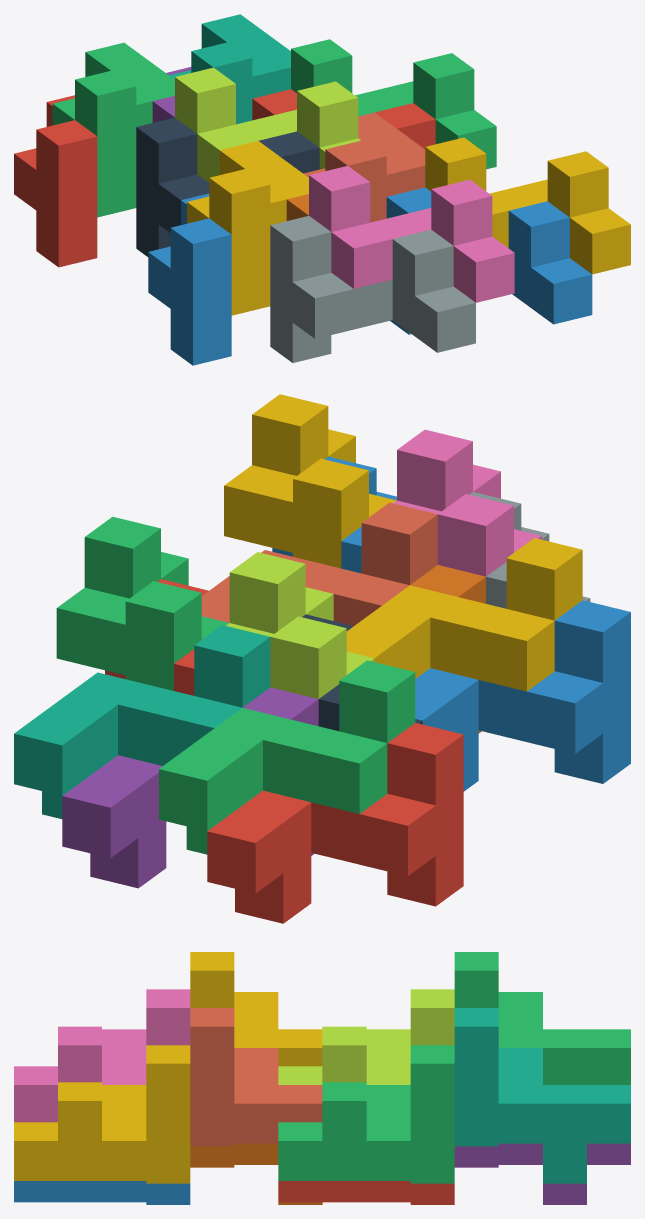
Rendered from tiling.obj.
3 views of the same model, one above another, from view 1: azimuth 30°, elevation 25°; view 2: azimuth 150°, elevation 25°; view 3: azimuth 270°, elevation 25° (orthographic). The views are drawn at different scales.
Visible parts, largest first — view 1: copy_2_domain_2, copy_2_domain_4, copy_2_domain_8, copy_1_domain_3, copy_1_domain_4, copy_1_domain_1, copy_2_domain_3, copy_1_domain_2, copy_2_domain_7, copy_2_domain_6, copy_2_domain_1, copy_1_domain_7 (+4 smaller); view 2: copy_1_domain_1, copy_1_domain_3, copy_1_domain_2, copy_1_domain_7, copy_1_domain_4, copy_2_domain_7, copy_2_domain_8, copy_1_domain_5, copy_2_domain_3, copy_2_domain_4, copy_1_domain_8, copy_1_domain_6 (+4 smaller); view 3: copy_2_domain_7, copy_2_domain_8, copy_1_domain_7, copy_1_domain_8, copy_2_domain_4, copy_1_domain_3, copy_2_domain_3, copy_1_domain_4, copy_1_domain_5, copy_2_domain_5, copy_2_domain_6, copy_1_domain_6.
Boxes of the visible parts, x1,y1,x2,y2 form: copy_2_domain_2: [270, 216, 475, 362]; copy_2_domain_4: [309, 166, 514, 302]; copy_2_domain_8: [425, 137, 630, 274]; copy_1_domain_3: [52, 42, 174, 217]; copy_1_domain_4: [187, 141, 308, 315]; copy_1_domain_1: [14, 95, 97, 267]; copy_2_domain_3: [175, 67, 360, 182]; copy_1_domain_2: [148, 193, 231, 365]; copy_2_domain_7: [291, 39, 496, 169]; copy_2_domain_6: [386, 187, 592, 334]; copy_2_domain_1: [136, 117, 319, 256]; copy_1_domain_7: [169, 14, 290, 124]; copy_1_domain_1: [207, 723, 463, 923]; copy_1_domain_3: [159, 660, 415, 854]; copy_1_domain_2: [415, 600, 630, 791]; copy_1_domain_7: [14, 625, 270, 818]; copy_1_domain_4: [346, 538, 582, 691]; copy_2_domain_7: [56, 516, 228, 690]; copy_2_domain_8: [224, 394, 396, 568]; copy_1_domain_5: [62, 687, 318, 888]; copy_2_domain_3: [226, 552, 374, 698]; copy_2_domain_4: [393, 429, 541, 576]; copy_1_domain_8: [201, 502, 437, 625]; copy_1_domain_6: [410, 565, 485, 733]; copy_2_domain_7: [278, 1045, 454, 1183]; copy_2_domain_8: [14, 1045, 190, 1183]; copy_1_domain_7: [454, 1008, 630, 1183]; copy_1_domain_8: [190, 1008, 322, 1146]; copy_2_domain_4: [14, 989, 190, 1122]; copy_1_domain_3: [454, 952, 630, 1084]; copy_2_domain_3: [278, 989, 454, 1084]; copy_1_domain_4: [190, 952, 322, 1066]; copy_1_domain_5: [454, 1143, 630, 1204]; copy_2_domain_5: [278, 1181, 454, 1204]; copy_2_domain_6: [14, 1181, 190, 1204]; copy_1_domain_6: [190, 1143, 322, 1204].
Bounding box in the file's own units: 9 × 4 × 14.
